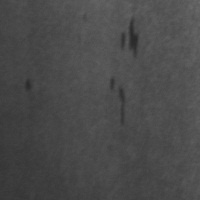inclusion: (107, 74, 133, 128), (117, 13, 142, 60), (20, 73, 36, 97)
